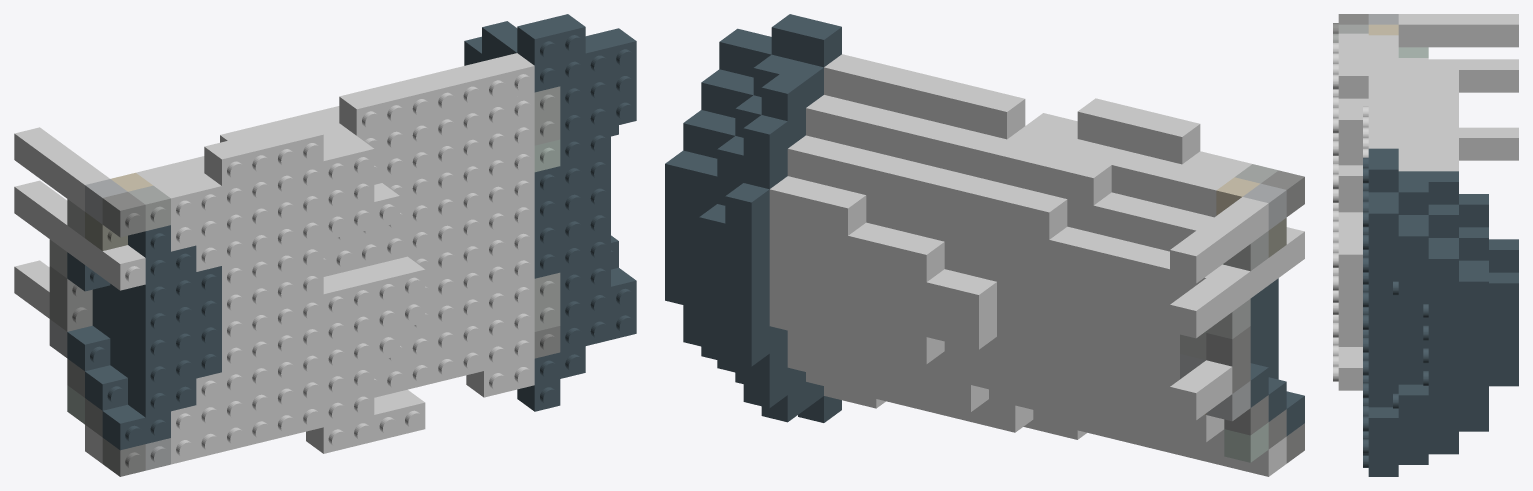
The model's file is full.glb.
3 renders of one model, left to right at view 1: azimuth 30°, elevation 25°; view 2: azimuth 150°, elevation 25°; view 3: azimuth 270°, elevation 25°, orthographic. The views are drawn at different scales.
Visible parts, largest first — view 1: world; view 2: world; view 3: world.
Part boxes in pixels (<box>): world: <box>14,14,636,476</box>; world: <box>665,14,1304,476</box>; world: <box>1333,14,1518,476</box>.
Bounding box in the file's own units: 168 × 112 × 59.4.
